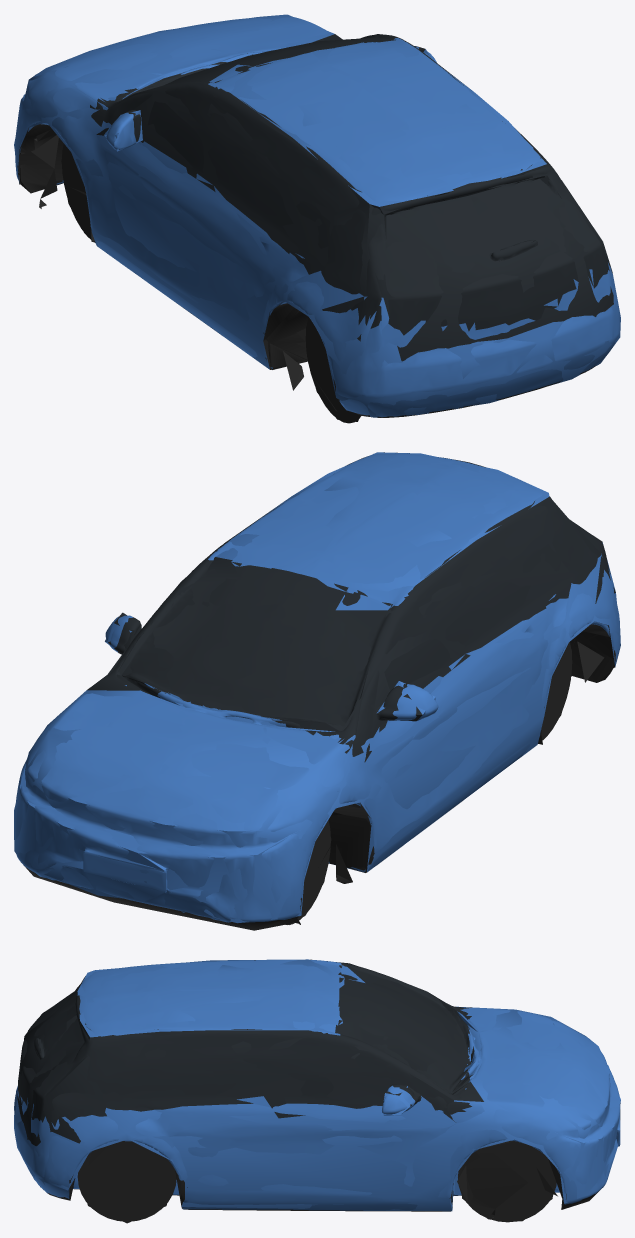
The model's file is hyundai-ioniq-5.glb.
3 views of the same model, one above another, from view 1: azimuth 30°, elevation 25°; view 2: azimuth 150°, elevation 25°; view 3: azimuth 270°, elevation 25° (orthographic). The views are drawn at different scales.
Parts seen in each view (by area): view 1: body, far; view 2: body, far; view 3: body, far.
Boxes of the visible parts, box(x1,y1,x2,y2) form: body: box(15, 17, 619, 423); far: box(14, 14, 620, 421); body: box(14, 453, 620, 930); far: box(14, 452, 620, 924); body: box(14, 959, 620, 1222); far: box(14, 959, 620, 1223).
Size of the model in its own units: 2.28 by 1.67 by 4.69.
